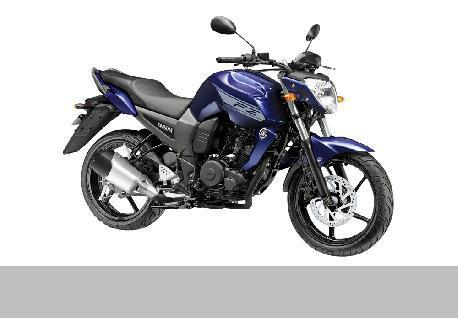motorbike: (62, 14, 394, 257)
